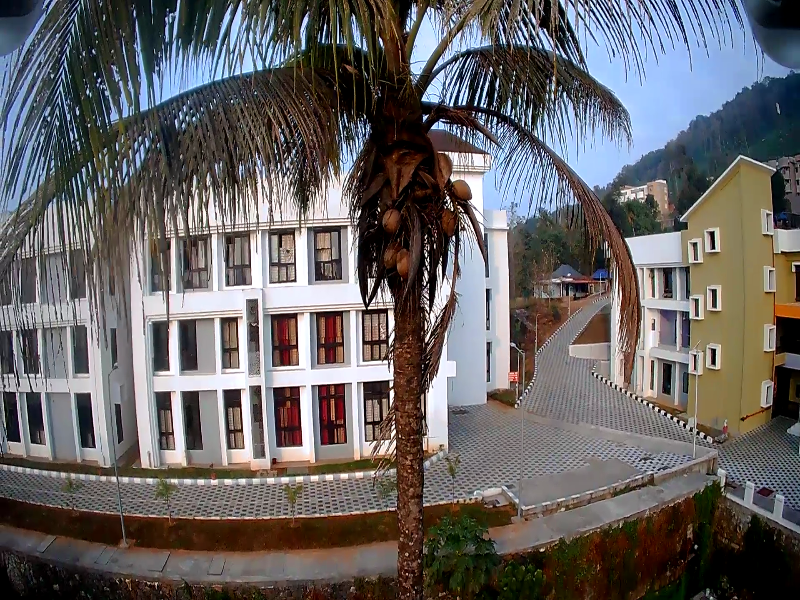coconut: (396, 244, 412, 280), (449, 180, 474, 201), (435, 206, 453, 235), (383, 210, 399, 234), (380, 244, 394, 267)
